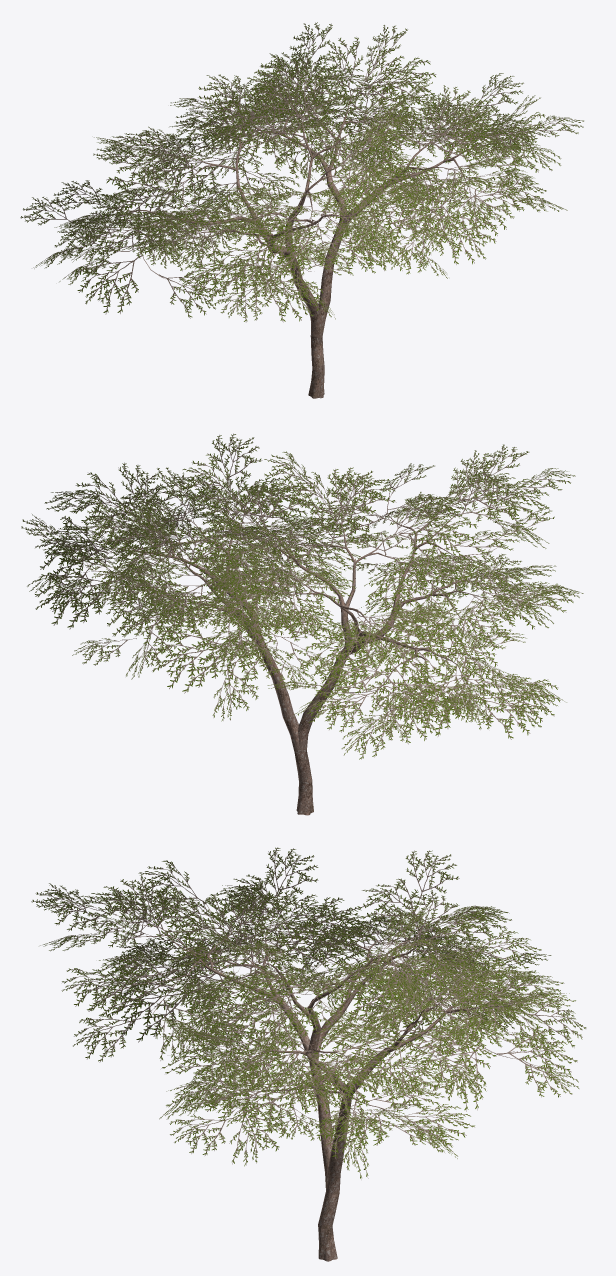
The model's file is Acacia.fbx.
The picture shows the model from 3 angles, top to bottom: view 1: azimuth 30°, elevation 25°; view 2: azimuth 150°, elevation 25°; view 3: azimuth 270°, elevation 25°; orthographic projection. The views are drawn at different scales.
Visible parts, largest first — view 1: Acacia_LOD0; view 2: Acacia_LOD0; view 3: Acacia_LOD0.
Part boxes in pixels (left/top/right/bottom): Acacia_LOD0: left=20, top=22, right=583, bottom=398; Acacia_LOD0: left=21, top=433, right=583, bottom=815; Acacia_LOD0: left=31, top=847, right=586, bottom=1261.
Size of what is drawn, in the model's own units: 12.98 by 7 by 10.53.
Materials: 2 (2 with a texture image).
